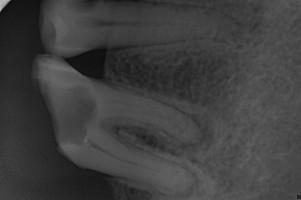Furcation Involvement: (183, 113, 215, 151)
